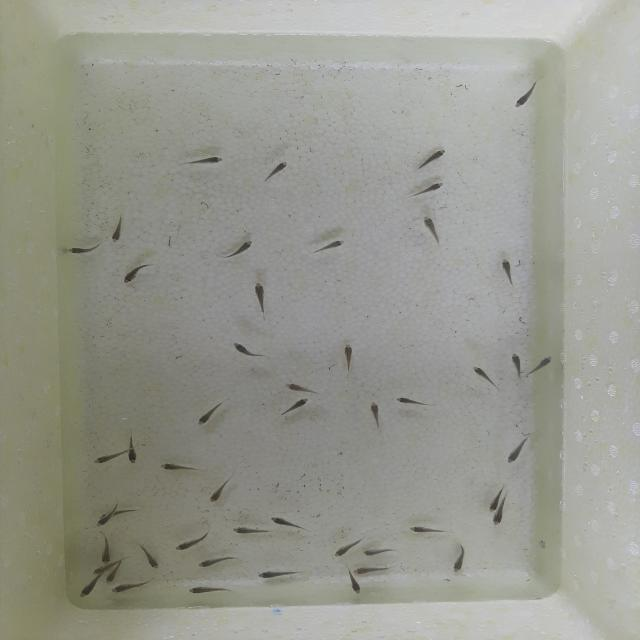fingerling: (507, 437, 532, 466), (418, 146, 447, 169), (196, 554, 241, 568), (512, 85, 535, 112), (175, 535, 212, 551), (188, 154, 225, 170), (280, 400, 312, 417), (200, 405, 227, 425), (332, 540, 361, 558), (263, 160, 289, 180), (469, 366, 495, 386), (107, 219, 127, 245), (254, 569, 301, 580), (532, 352, 560, 370), (120, 265, 145, 285), (78, 578, 103, 598), (417, 180, 445, 197), (101, 569, 128, 586), (232, 343, 260, 359), (452, 546, 468, 574), (141, 554, 163, 574), (102, 508, 141, 519), (318, 238, 346, 252), (270, 516, 298, 530), (422, 216, 439, 239), (208, 485, 228, 504), (110, 583, 144, 594), (232, 241, 256, 256), (92, 454, 124, 465), (286, 383, 315, 395), (353, 567, 395, 575), (486, 486, 500, 510), (157, 462, 189, 472), (395, 396, 426, 406), (91, 514, 113, 528), (64, 246, 98, 255), (493, 506, 508, 526), (363, 548, 393, 558), (348, 578, 364, 596), (410, 526, 451, 533), (125, 441, 138, 463), (101, 542, 114, 564), (510, 353, 523, 375), (499, 256, 513, 276), (231, 526, 265, 534), (192, 589, 236, 595), (254, 282, 265, 305), (342, 344, 353, 364), (368, 401, 379, 420), (93, 564, 109, 574)
